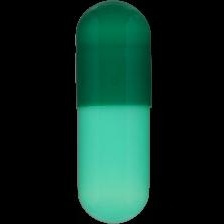67046-281: (0, 0, 224, 224)
